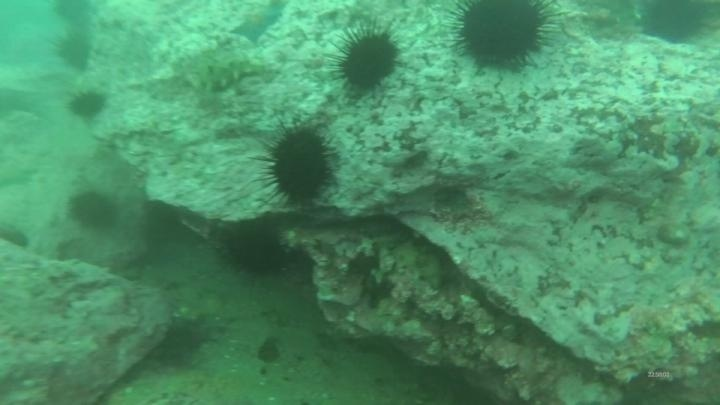echinus: (447, 1, 558, 73), (259, 123, 338, 208), (331, 26, 402, 95), (221, 224, 289, 279), (638, 1, 713, 46), (154, 317, 209, 368), (67, 189, 120, 232), (54, 31, 94, 73), (66, 88, 108, 123), (50, 0, 97, 26), (0, 222, 32, 253)
holothurian: (183, 51, 271, 95), (388, 239, 449, 295)
starfish: (229, 5, 284, 45), (0, 162, 39, 192)
